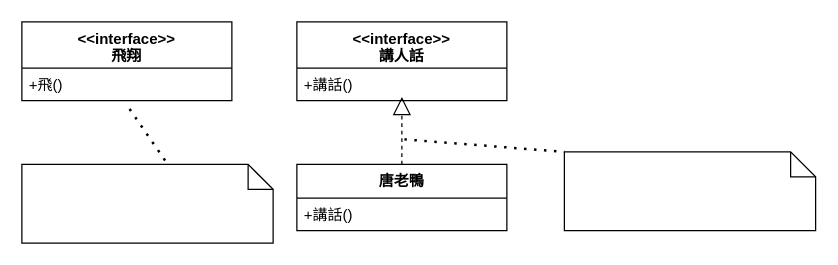
The diagram is 838 pixels wide and 265 high, and some of its shapes have lost their labels. Here are the shapes that lost their labels. From the top down, the centre of each, then its label:
At point (147, 203): "接口 矩形表示頂端有<<interface>>>> 第一行 : 接口名稱 第二行 : 接口方法".
At point (689, 191): "接口 棒棒糖表示法 圓圈旁為接口名稱 接口方法在實現類中出現".
